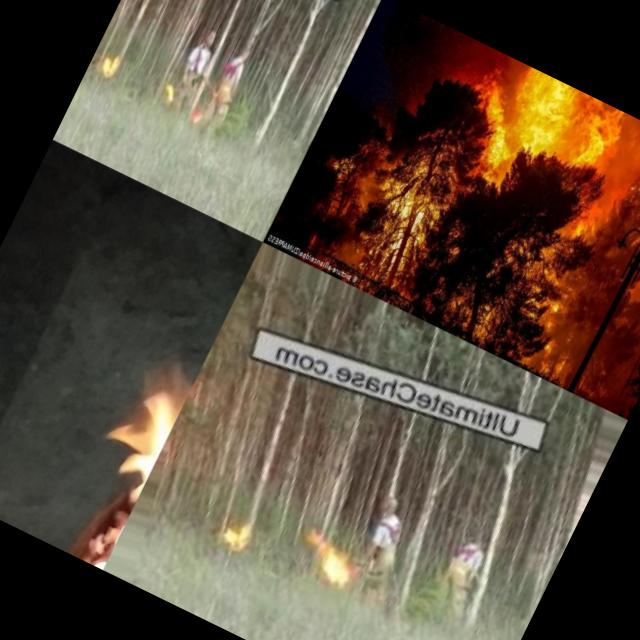fire: (448, 48, 639, 208), (292, 520, 362, 588), (210, 506, 264, 562), (95, 49, 124, 80), (156, 77, 183, 107)
